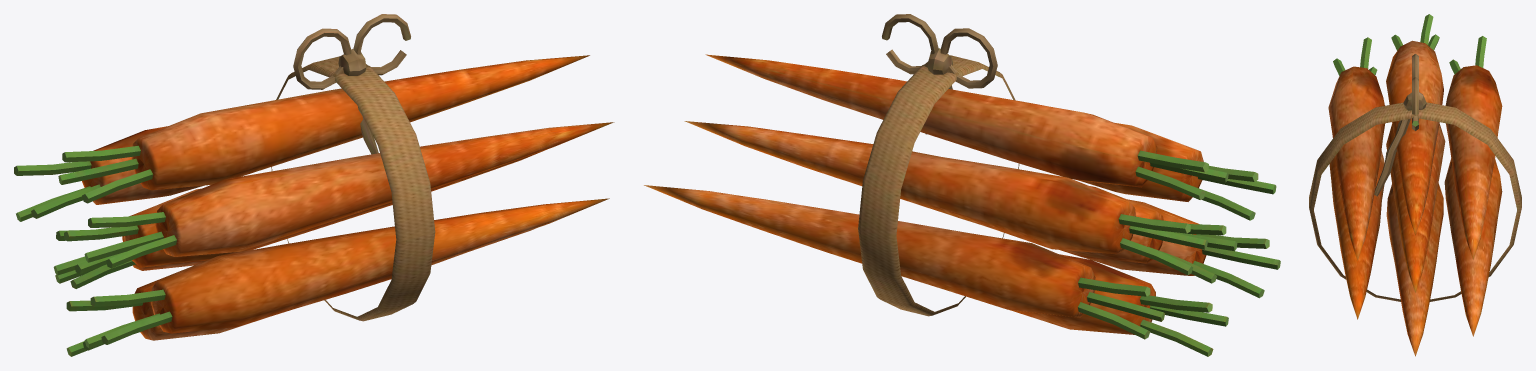
Rendered from ammo_light.glb.
3 renders of one model, left to right at view 1: azimuth 30°, elevation 25°; view 2: azimuth 150°, elevation 25°; view 3: azimuth 270°, elevation 25°, orthographic. The views are drawn at different scales.
Parts seen in each view (by area): view 1: ammo_light; view 2: ammo_light; view 3: ammo_light.
Boxes of the visible parts, box(x1,y1,x2,y2) form: ammo_light: box(14, 14, 614, 356); ammo_light: box(644, 14, 1280, 356); ammo_light: box(1309, 14, 1521, 356).
Bounding box in the file's own units: 0.2648 × 0.1292 × 0.1078.
Materials: 1 (1 with a texture image).
